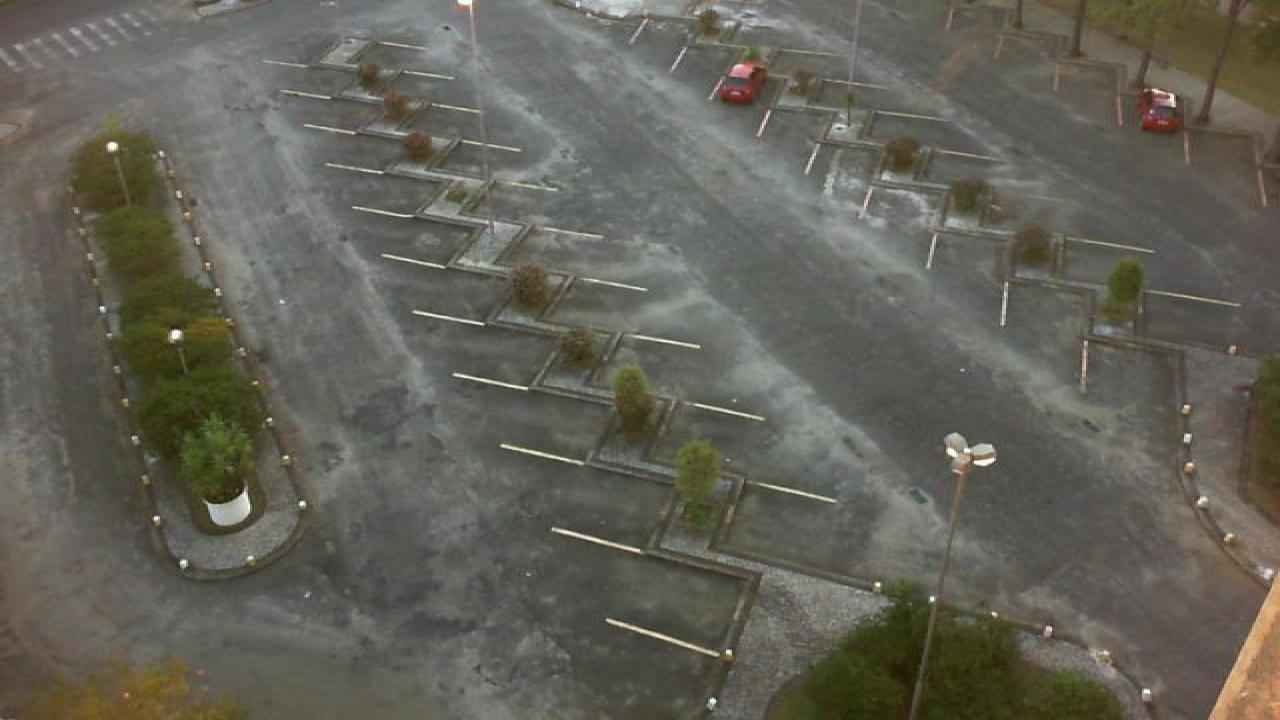Car: (712, 61, 764, 106), (1138, 86, 1180, 132)
